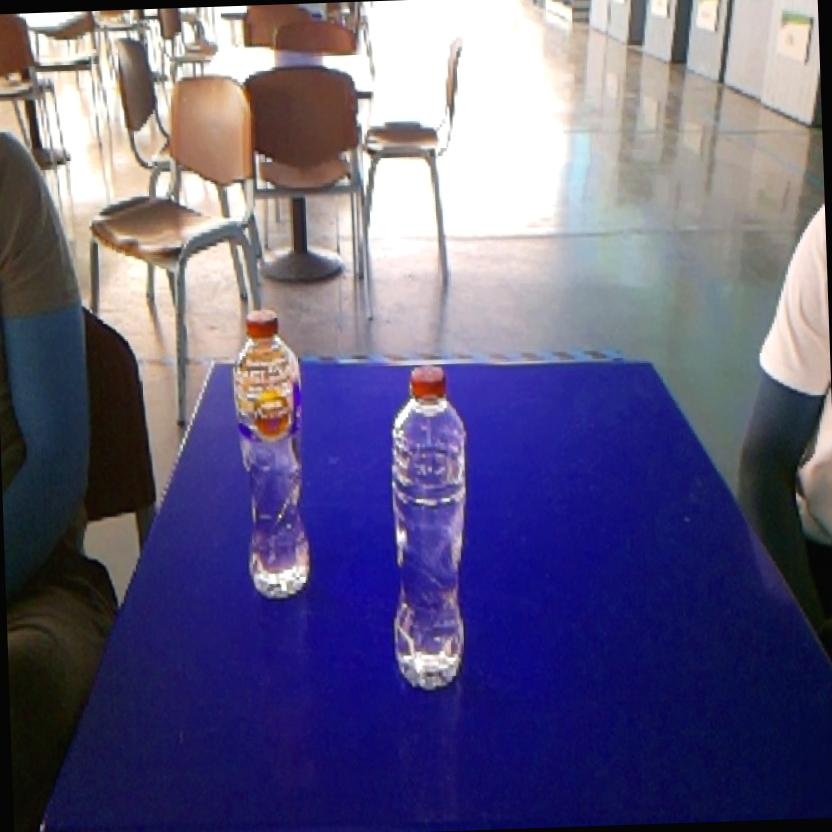good: (222, 301, 328, 606)
no_label: (377, 357, 481, 698)
